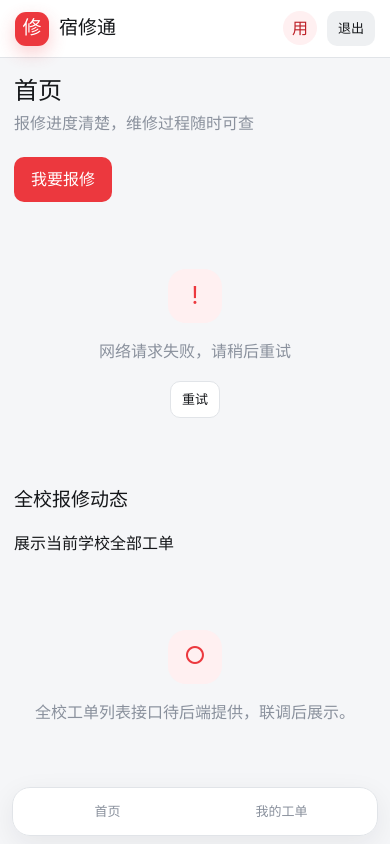
Test: 学生首页 › 加载失败展示错误与重试
What coordinates should you click on to do the following:
click the button with class "small" showing "重试"
I would click on:
 (195, 399)
Its box is [170,381,220,418].
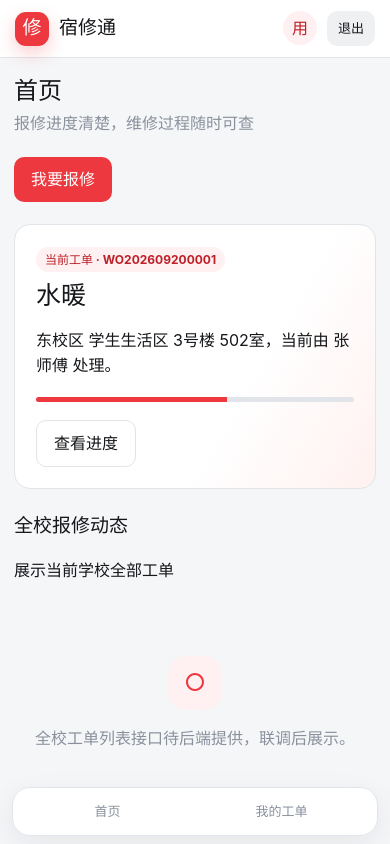
Now the element with class "hero" is shown, box [14,224,376,489]
